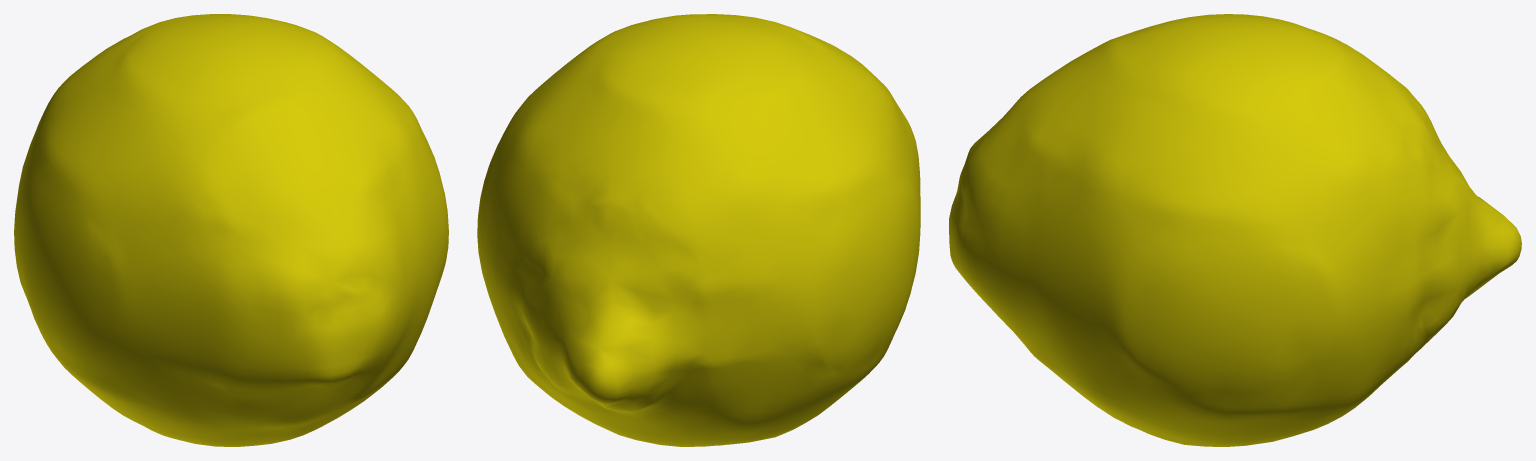
Rendered from Lemon v3000.fbx.
3 views of the same model, side by side, from view 1: azimuth 30°, elevation 25°; view 2: azimuth 150°, elevation 25°; view 3: azimuth 270°, elevation 25° (orthographic).
Visible parts, largest first — view 1: Lemon; view 2: Lemon; view 3: Lemon.
Part boxes in pixels (x1,y1,x2,y2): Lemon: (14, 14, 448, 446); Lemon: (477, 14, 920, 446); Lemon: (949, 14, 1521, 446).
Bounding box in the file's own units: 222 × 215 × 293.
